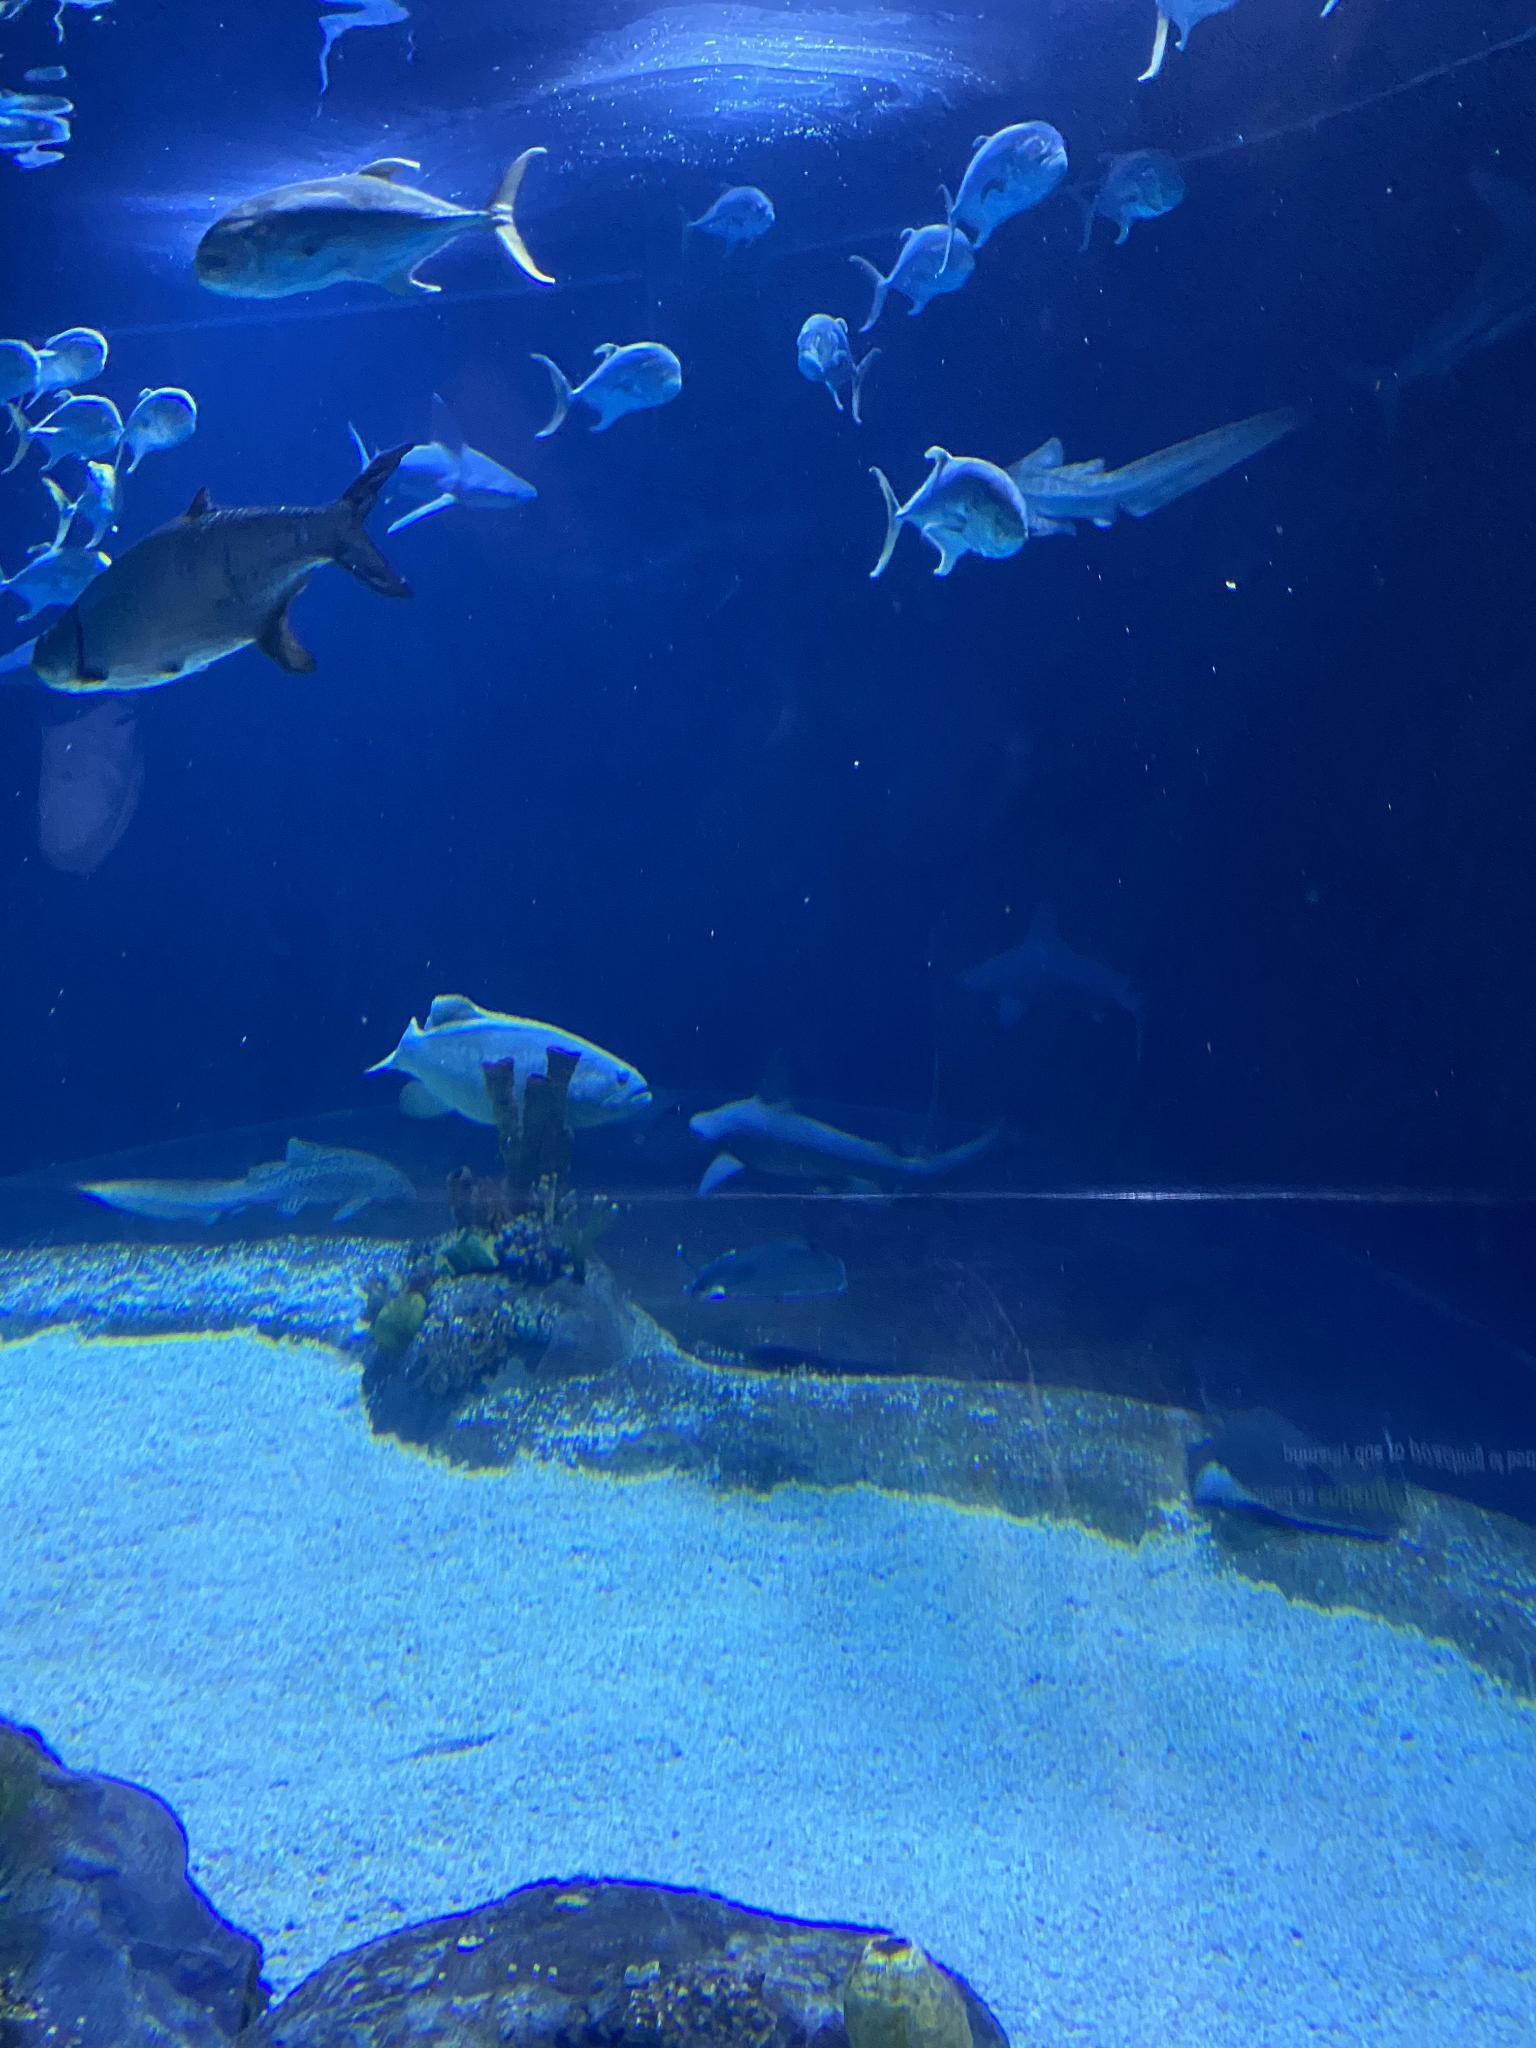fish: (31, 440, 415, 695), (190, 144, 558, 300), (366, 992, 649, 1127), (866, 447, 1028, 581), (942, 119, 1066, 250), (542, 342, 686, 443), (849, 224, 975, 329), (1071, 152, 1186, 247), (0, 389, 123, 472), (0, 542, 119, 622), (802, 313, 878, 424), (1136, 0, 1234, 85), (42, 461, 124, 550), (113, 389, 195, 471), (29, 327, 106, 408), (684, 189, 774, 255), (0, 340, 42, 406)
shark: (1338, 168, 1536, 440), (691, 1047, 1005, 1198), (966, 405, 1299, 537), (963, 898, 1141, 1059), (77, 1137, 416, 1221), (347, 392, 536, 534)
stingray: (682, 1235, 845, 1301)
